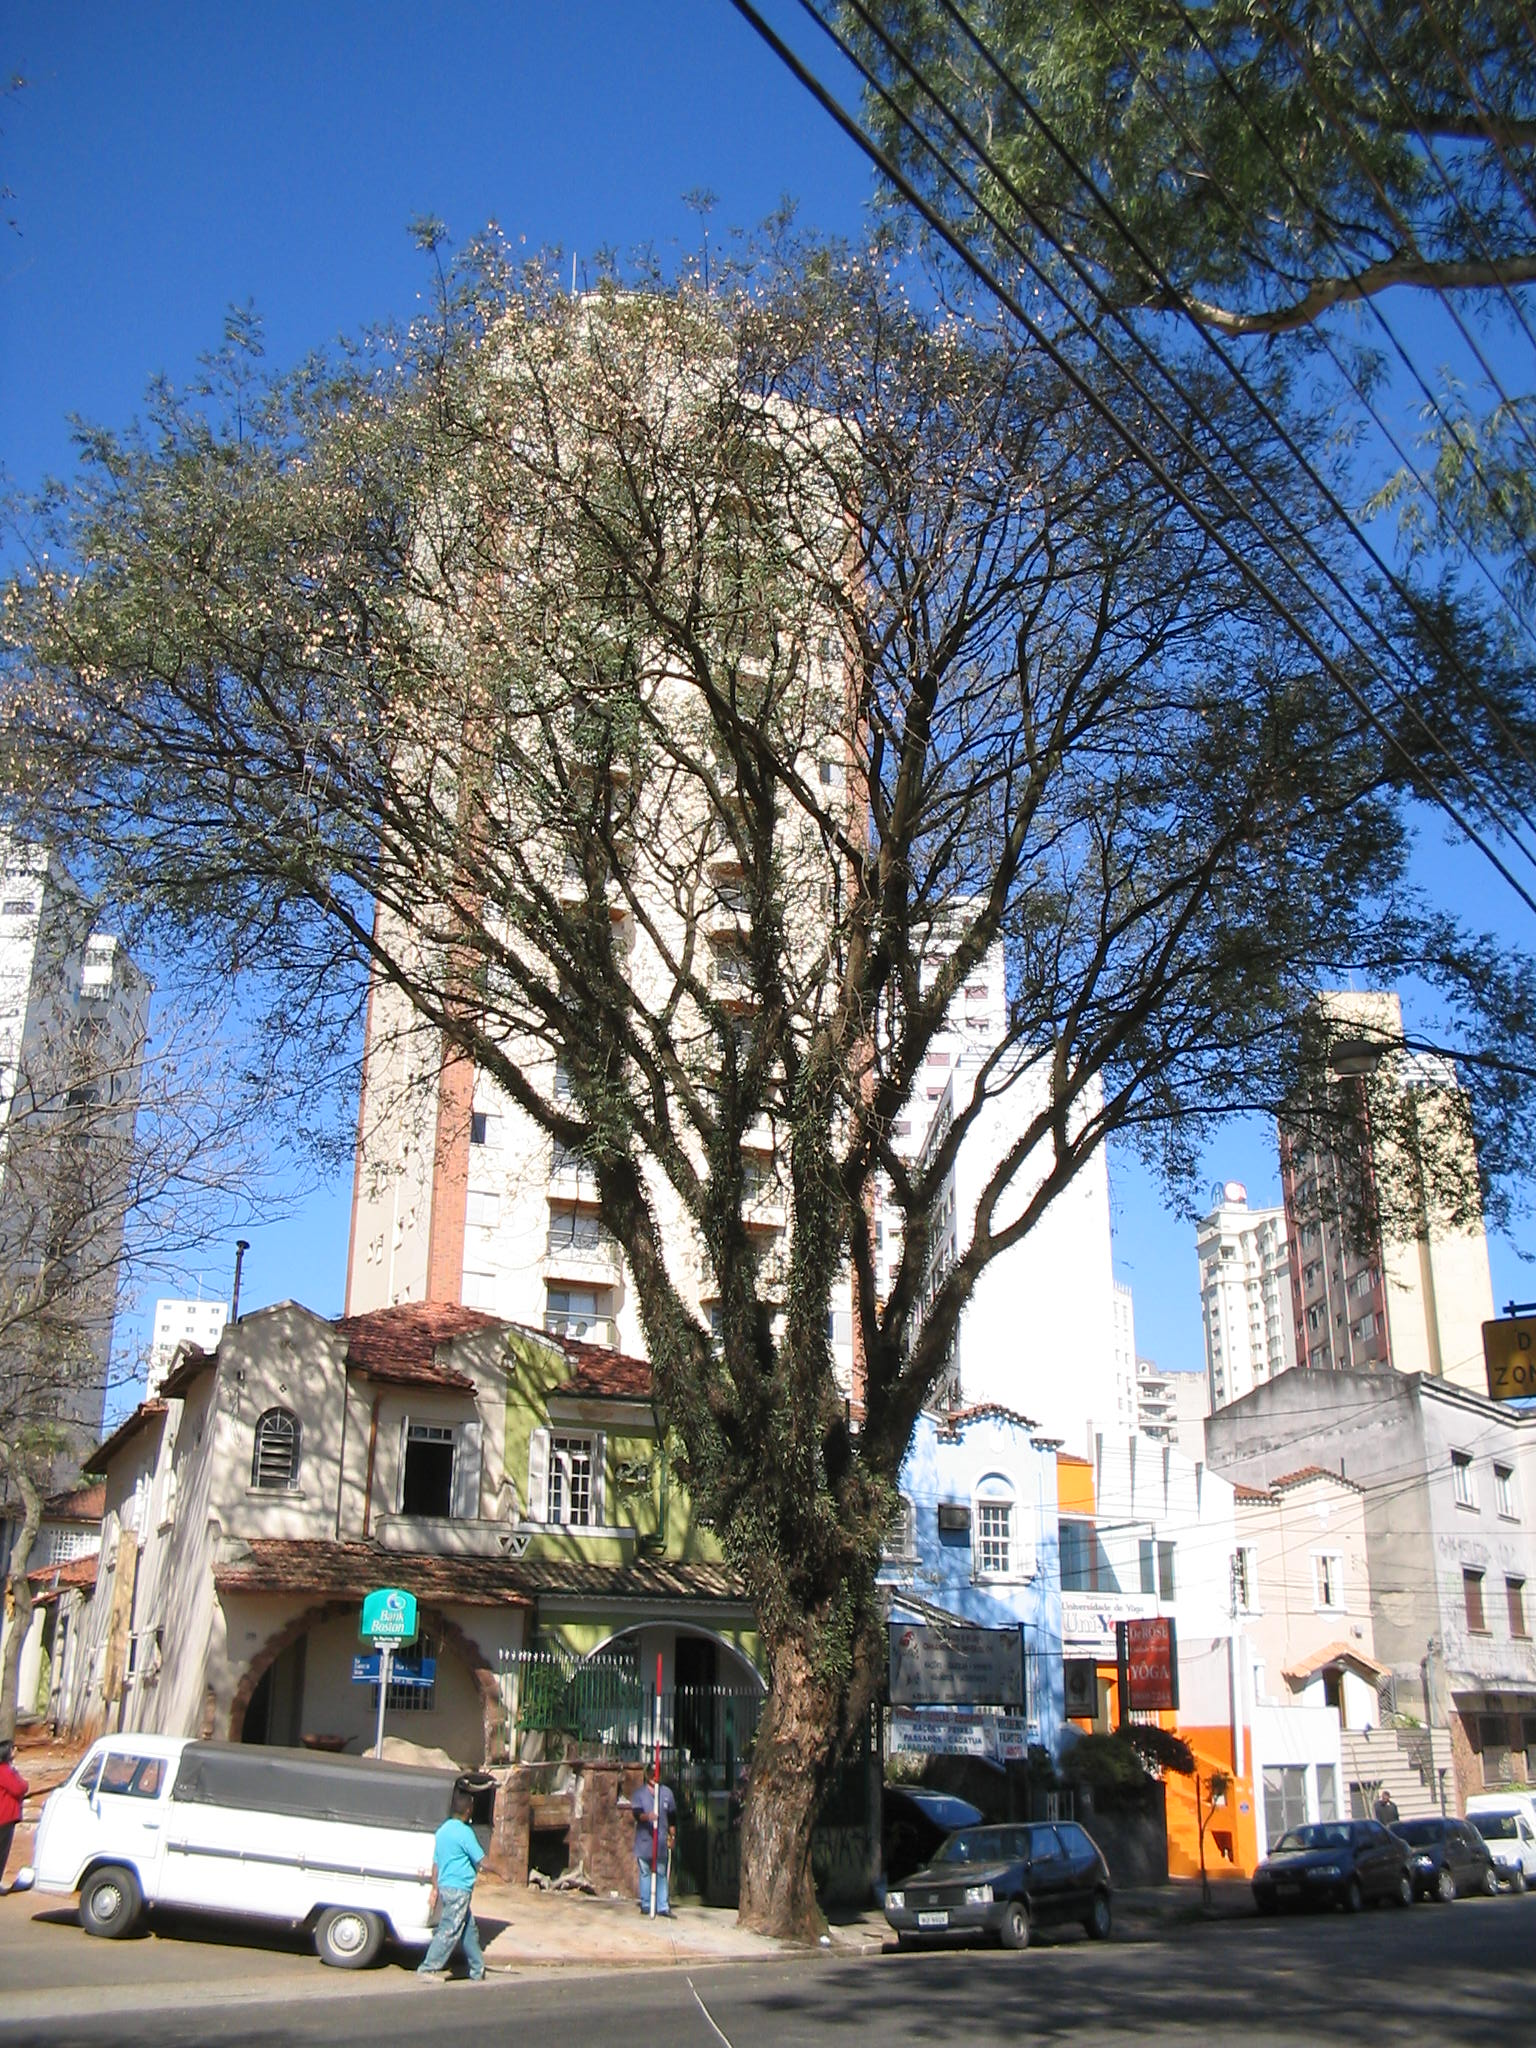crown: (6, 192, 1517, 1276)
stem: (708, 1613, 908, 1937)
stick: (624, 1650, 682, 1919)
tree: (2, 190, 1521, 1940)
